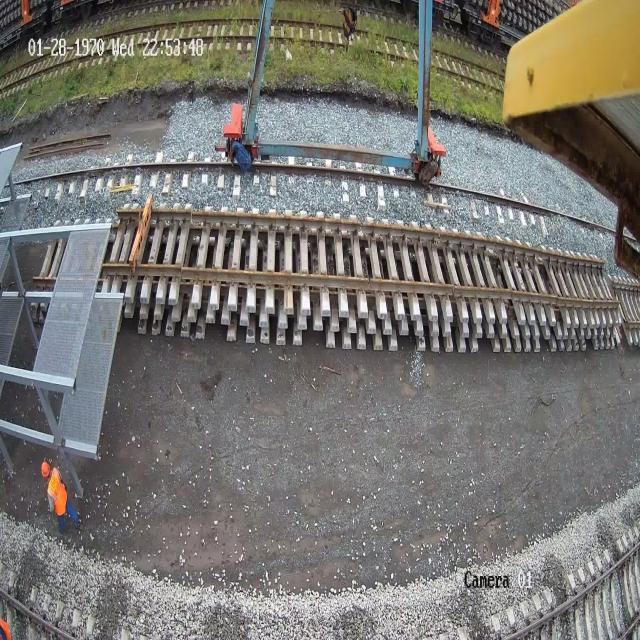Helmet: (41, 460, 50, 477)
Person: (40, 460, 81, 534)
